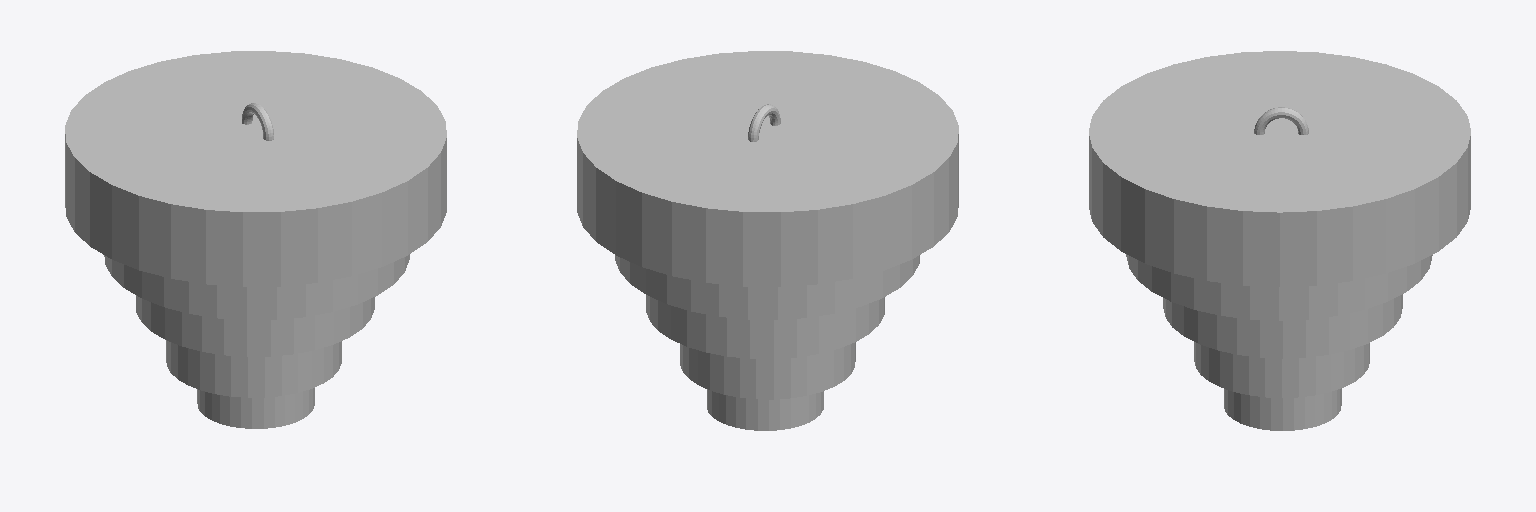
The model's file is chandelier.obj.
3 renders of one model, left to right at view 1: azimuth 30°, elevation 25°; view 2: azimuth 150°, elevation 25°; view 3: azimuth 270°, elevation 25°, orthographic.
Visible parts, largest first — view 1: Plane_Plane.001; view 2: Plane_Plane.001; view 3: Plane_Plane.001.
Part boxes in pixels (bbox=[...]): Plane_Plane.001: bbox=[65, 51, 446, 428]; Plane_Plane.001: bbox=[577, 51, 958, 430]; Plane_Plane.001: bbox=[1089, 51, 1470, 430].
Size of the model in its own units: 5.05 by 4.35 by 5.05.